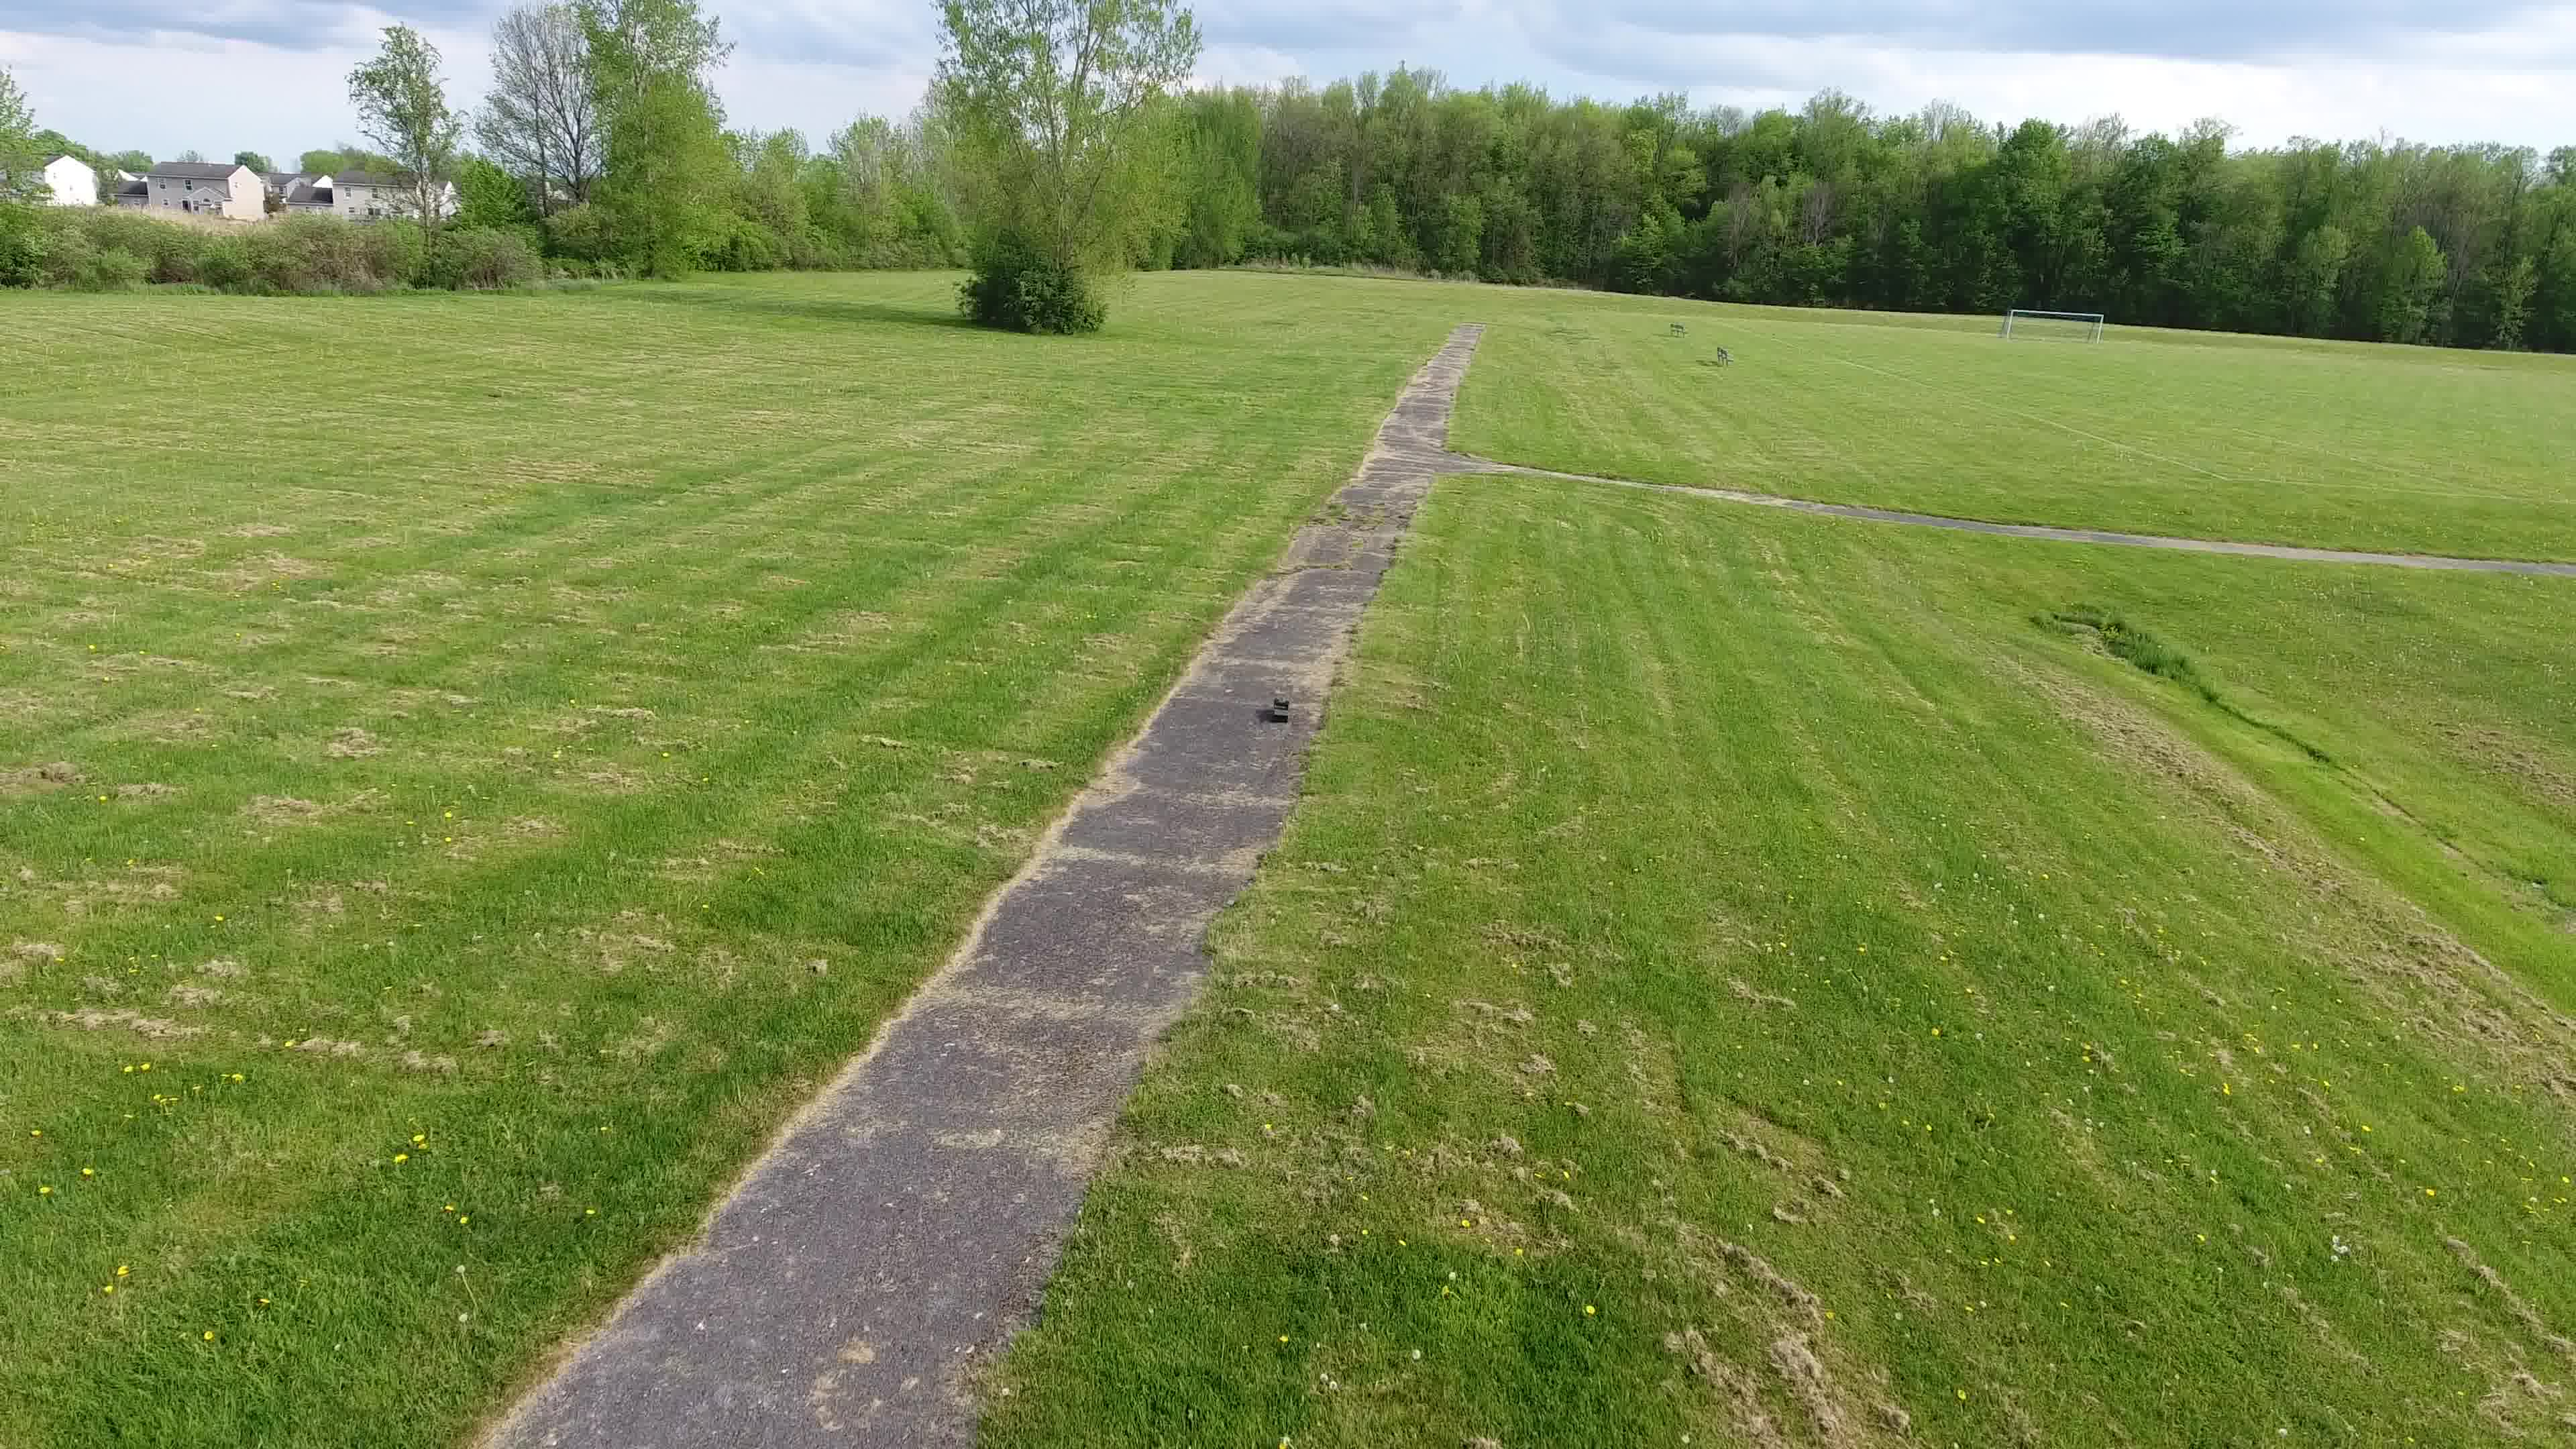transporter9_camo: (1272, 697, 1292, 724)
